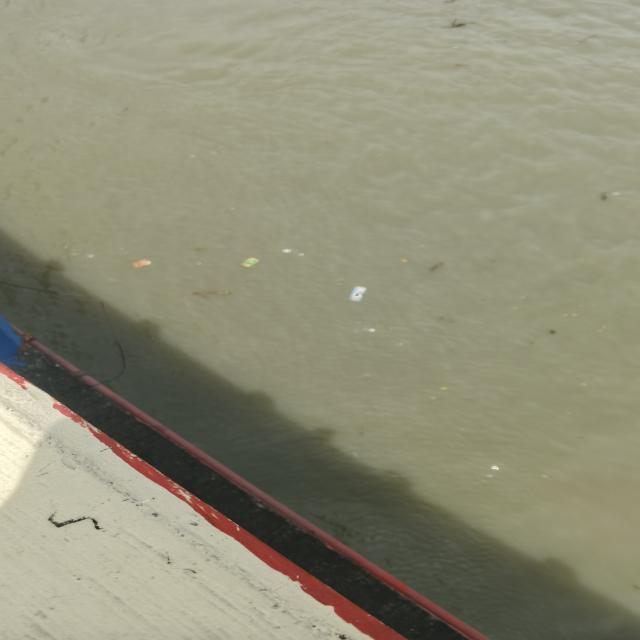Organic Debris: (164, 282, 253, 303), (590, 184, 619, 211), (424, 260, 459, 282), (437, 18, 479, 36)
Plastic: (335, 281, 388, 314), (224, 250, 268, 272), (128, 252, 174, 273), (363, 322, 387, 332)
